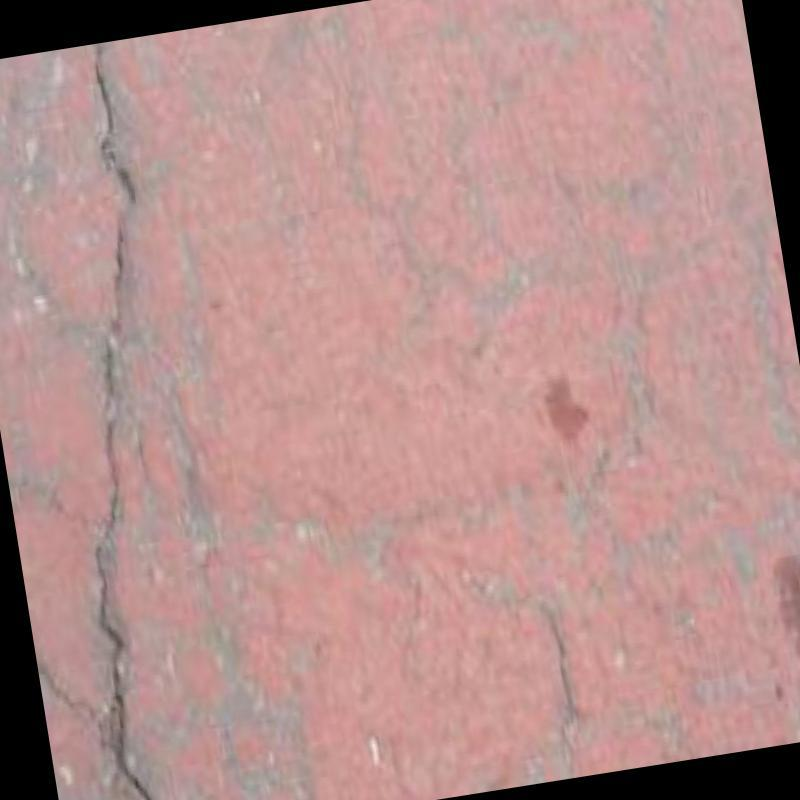pothole: (94, 42, 153, 800)
